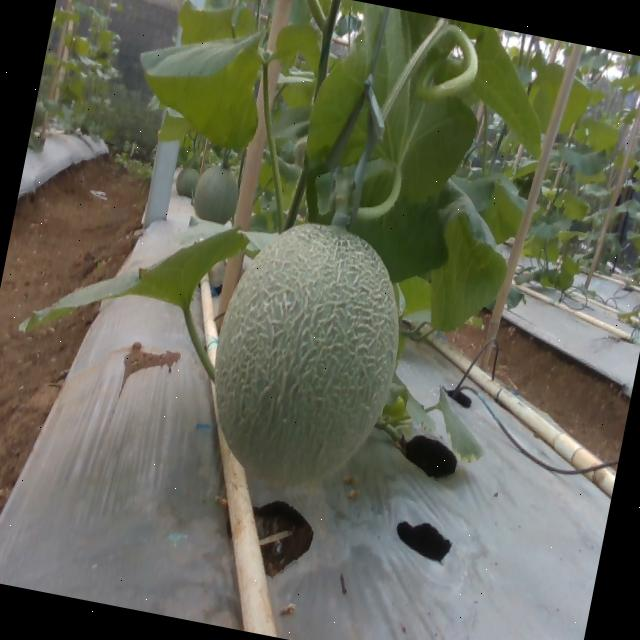melon: (215, 224, 399, 485)
